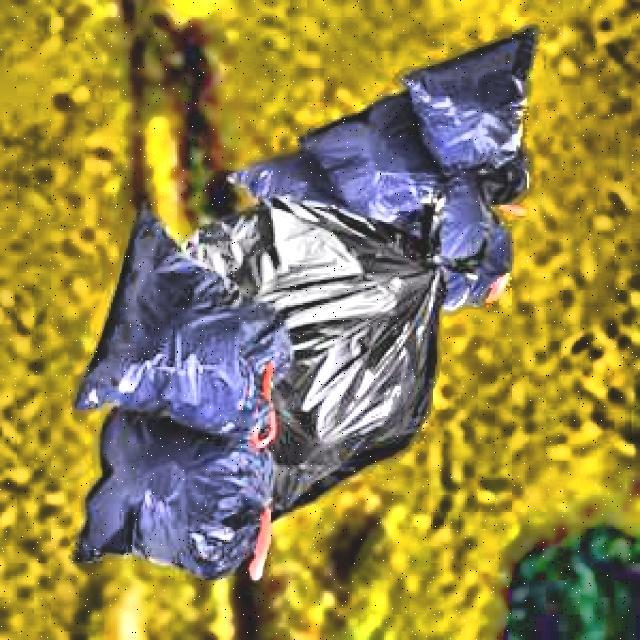Trashbag: (75, 200, 296, 424), (70, 403, 278, 586), (406, 18, 544, 180), (305, 92, 438, 225), (425, 169, 517, 314)
